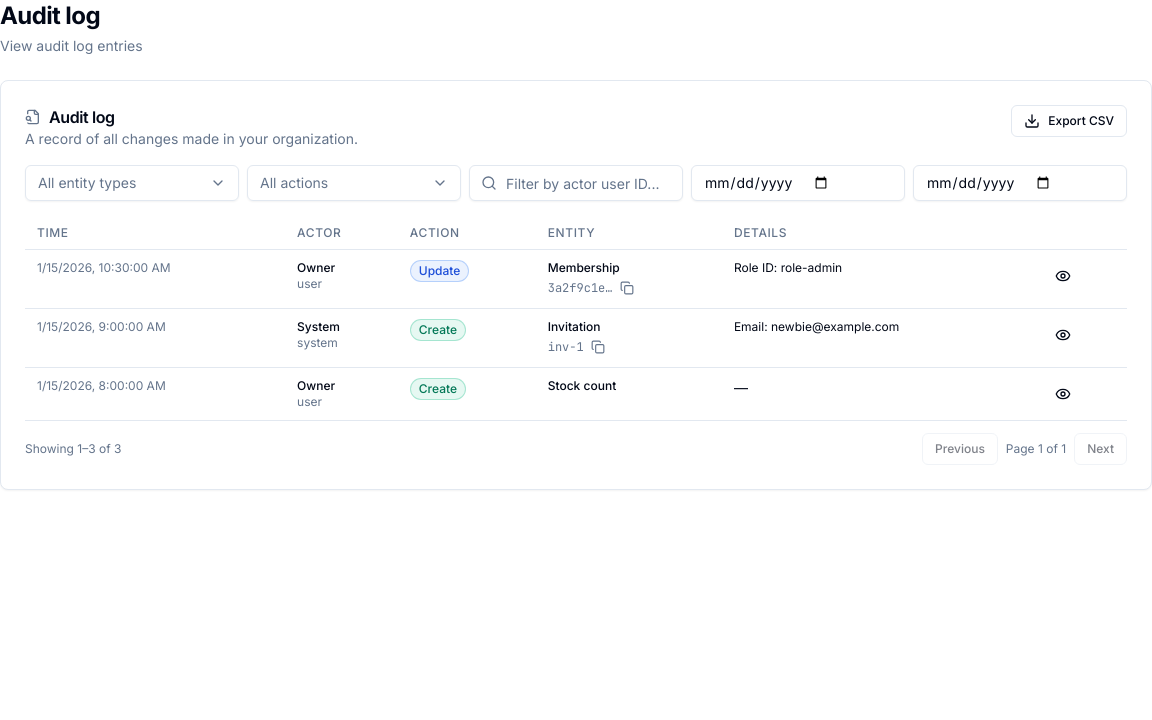
Test: AuditLogSettingsPage — rendering + filters › copies the full entity id from the copy button
Expected: the table is shown, [25,217,1127,420]
Click the button named "Copy ID" next to "3a2f9c1e…".
click(626, 288)  # box [616,278,636,298]
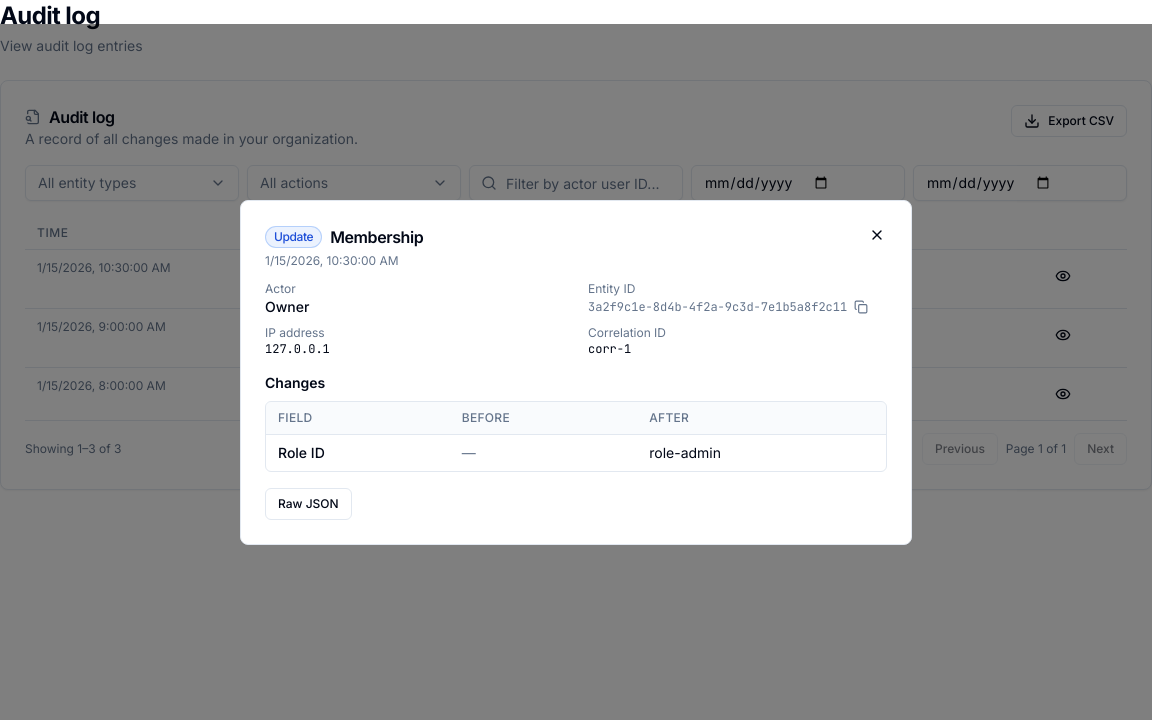
Now the button named "Copied" is shown, box [616,278,636,298]
